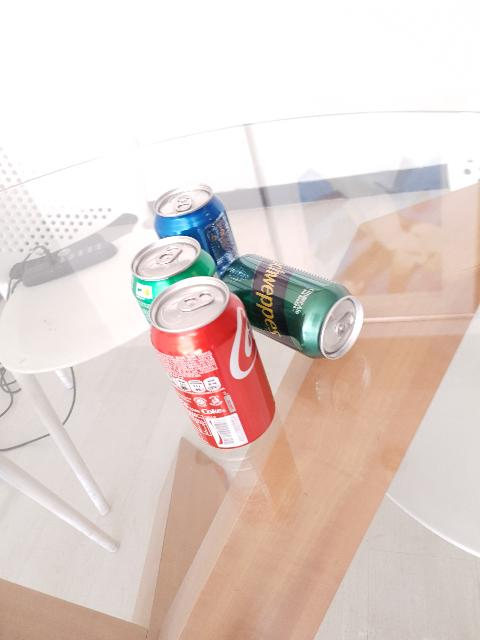coke: (146, 276, 278, 454)
pepsi: (154, 184, 241, 270)
schweppes: (220, 253, 364, 359)
sprite: (133, 242, 218, 312)
